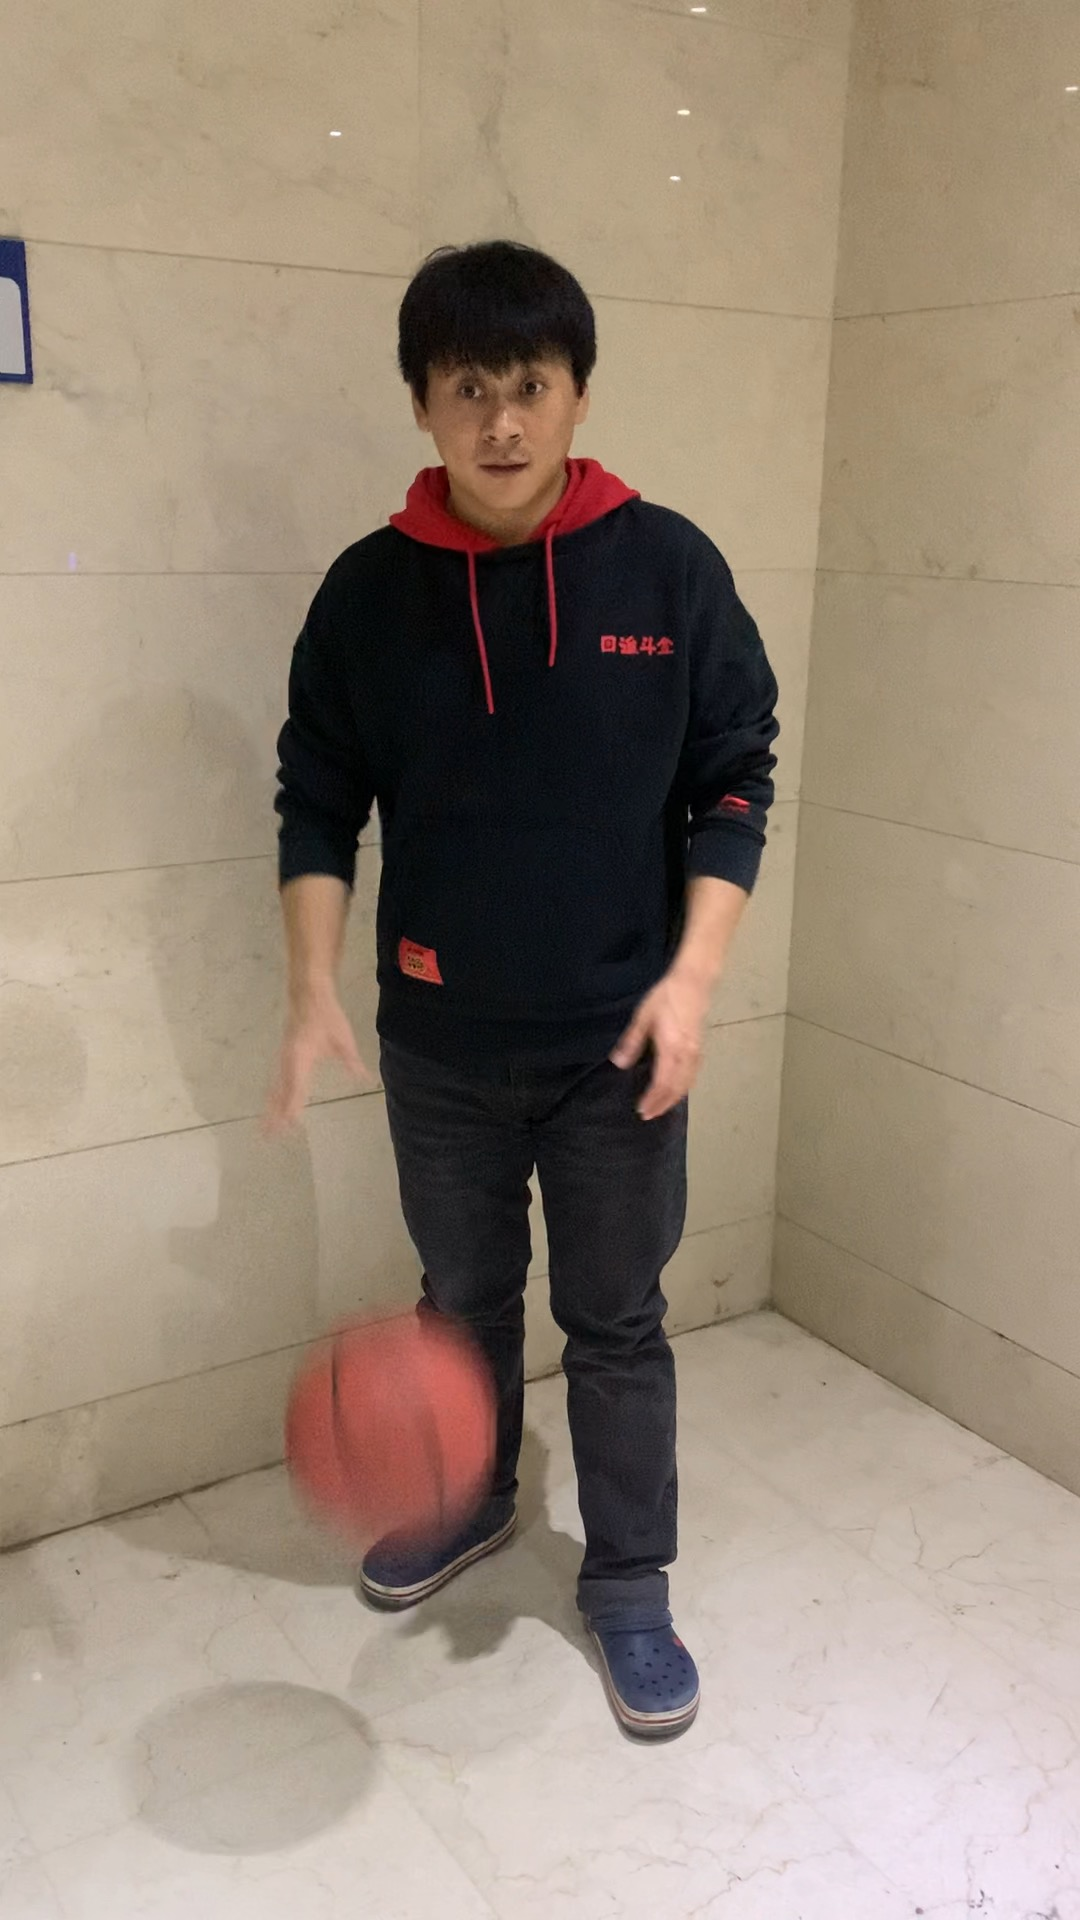ball: (285, 1323, 501, 1520)
